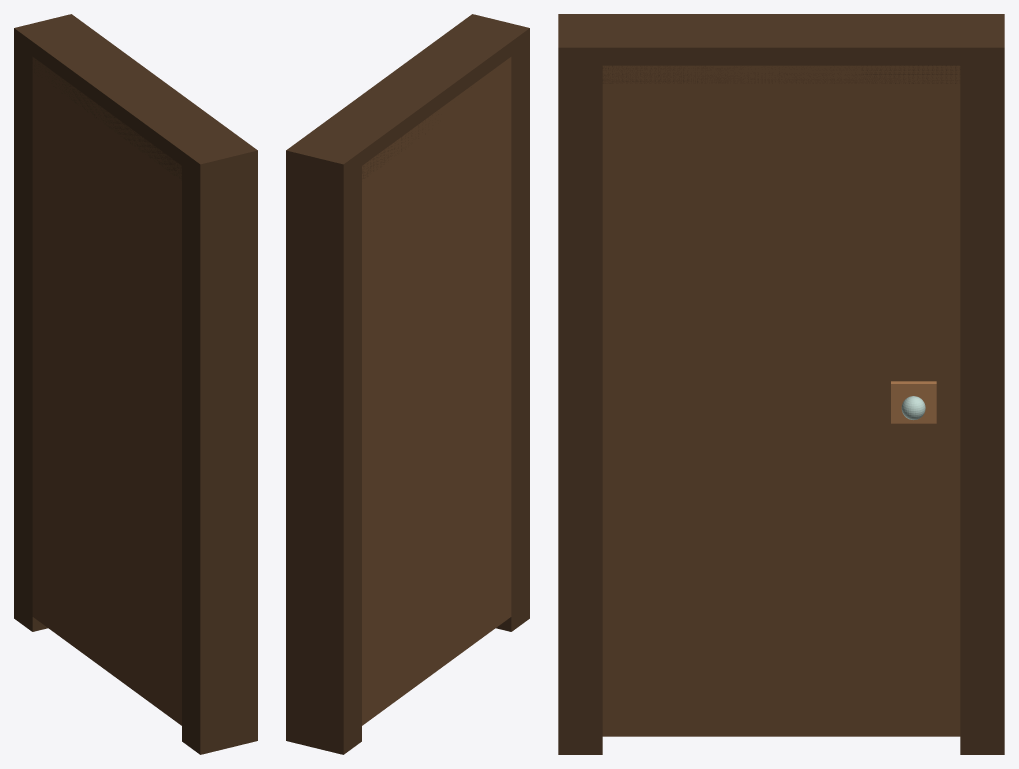
The model's file is door.glb.
3 views of the same model, side by side, from view 1: azimuth 30°, elevation 25°; view 2: azimuth 150°, elevation 25°; view 3: azimuth 270°, elevation 25° (orthographic). The views are drawn at different scales.
Visible parts, largest first — view 1: door, door_frame; view 2: door, door_frame; view 3: door, door_frame, handle_base.
Boxes of the visible parts, left/top/right/bottom form: door: left=32, top=57, right=181, bottom=725; door_frame: left=14, top=14, right=257, bottom=754; door: left=362, top=57, right=511, bottom=725; door_frame: left=286, top=14, right=529, bottom=754; door: left=602, top=65, right=960, bottom=736; door_frame: left=558, top=14, right=1004, bottom=754; handle_base: left=891, top=381, right=936, bottom=423.
Size of what is drawn, in the model's own units: 0.276 by 2 by 1.14.
